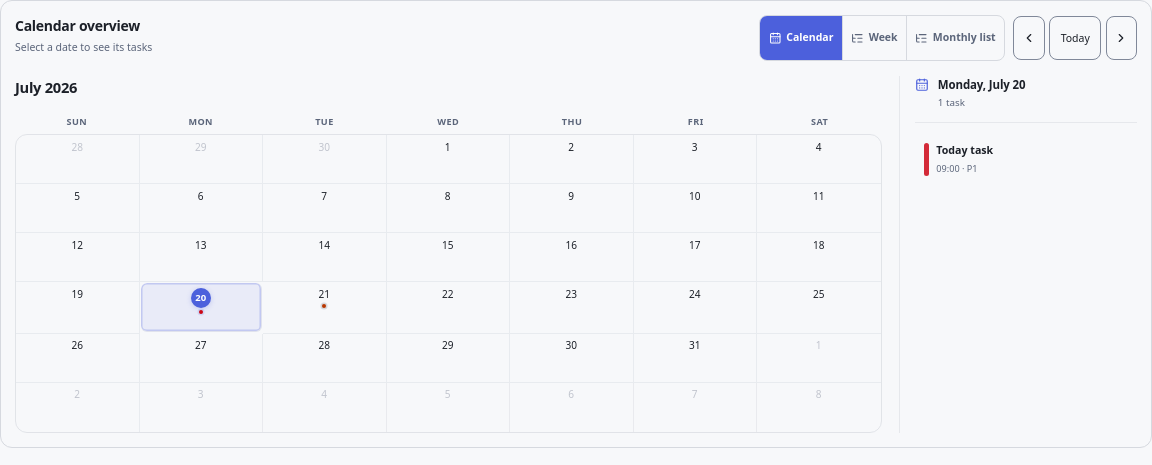
Test: SummaryCalendar › reviews Monday through Sunday and navigates one week at a time
The image size is (1152, 465).
Click the button with test id "summary-view-week". click: (875, 38)
box: [843, 16, 907, 60]
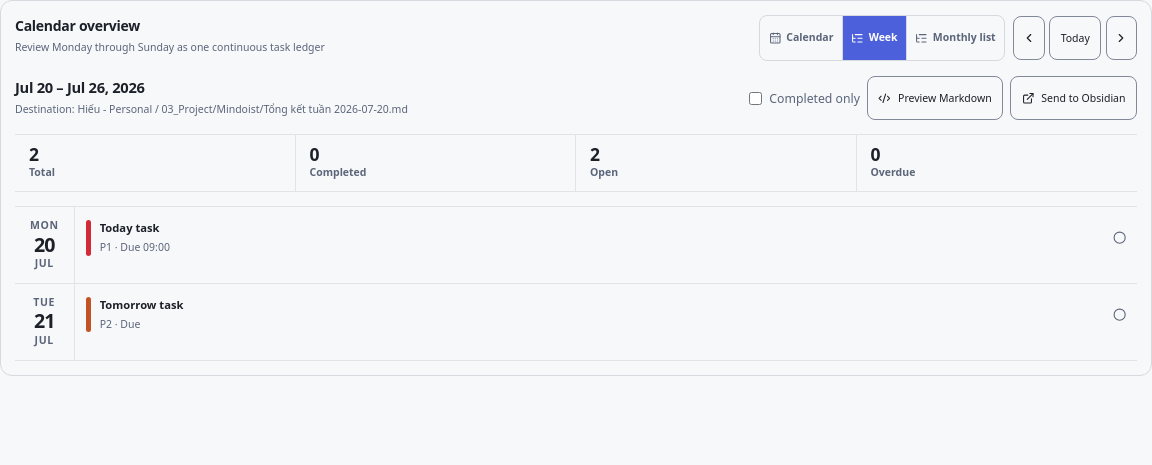
expect the element with test id "summary-weekly-list" is shown: met, box [15, 76, 1137, 361]
expect the list item with test id "summary-week-total" shows "2": met, box [29, 142, 38, 166]
expect the heading with test id "summary-week-range" reads "Jul 20 – Jul 26, 2026": met, box [15, 77, 145, 97]
Click the button named "Next week". click: (1121, 38)
box: [1106, 16, 1137, 60]
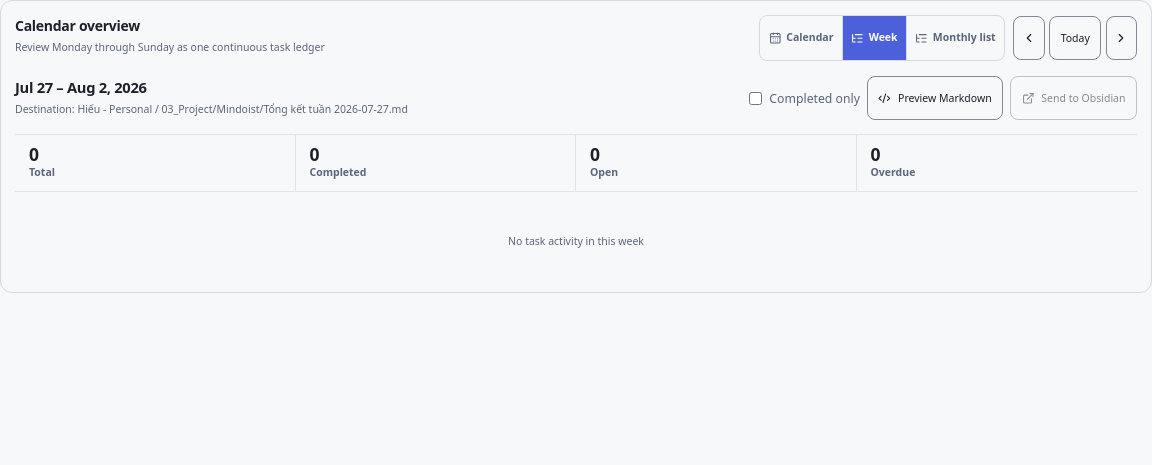
expect the text with test id "summary-week-empty" reads "No task activity in this week": met, box [508, 234, 644, 248]
Click the button named "Previous week". click: (1029, 38)
box: [1014, 16, 1045, 60]
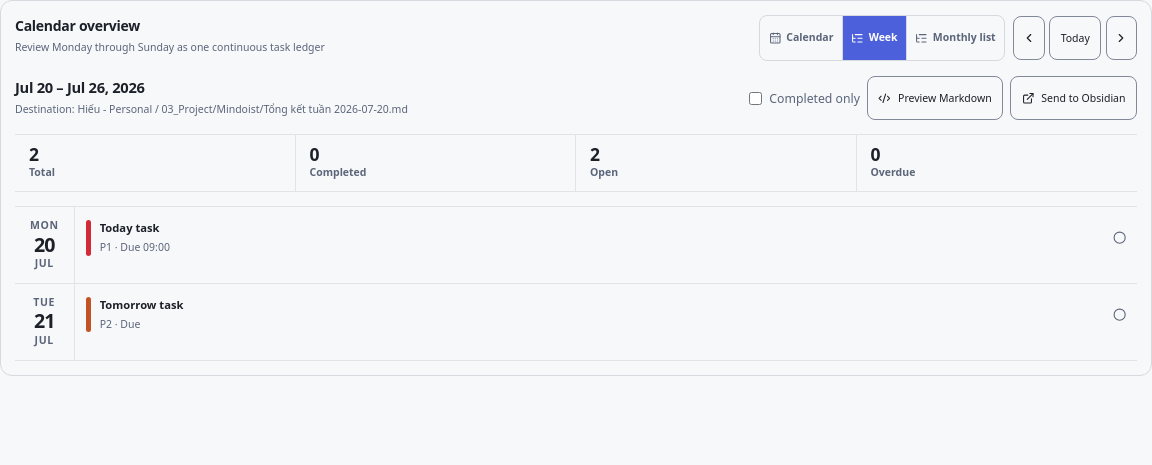
expect the list item with test id "summary-week-total" shows "2": met, box [29, 142, 38, 166]
